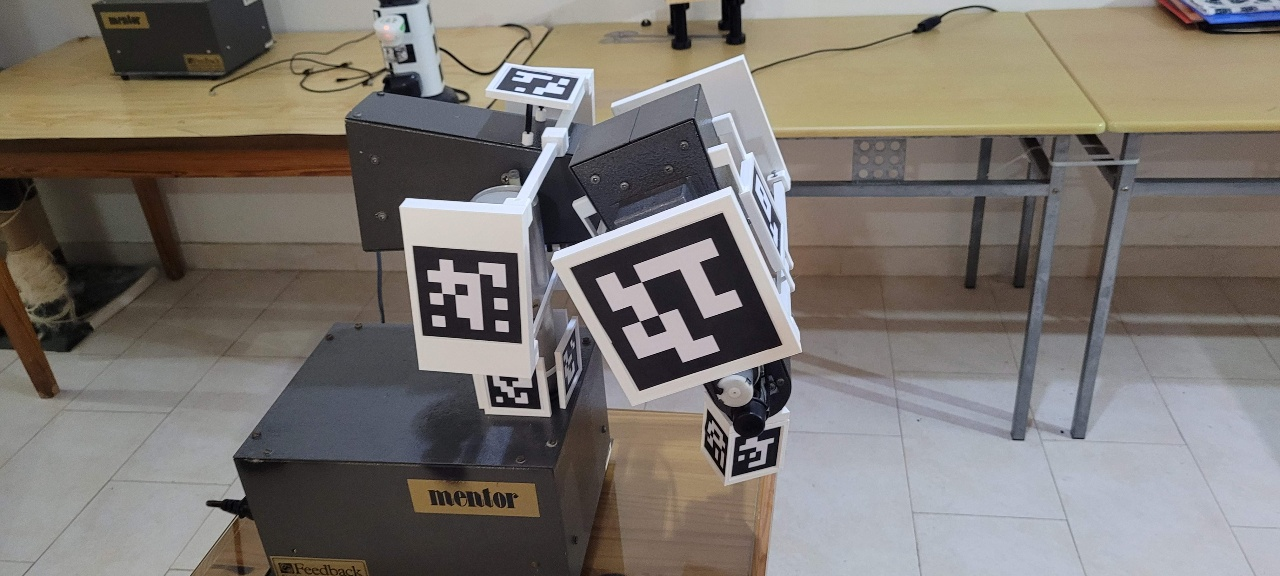Robot: (343, 53, 805, 489)
